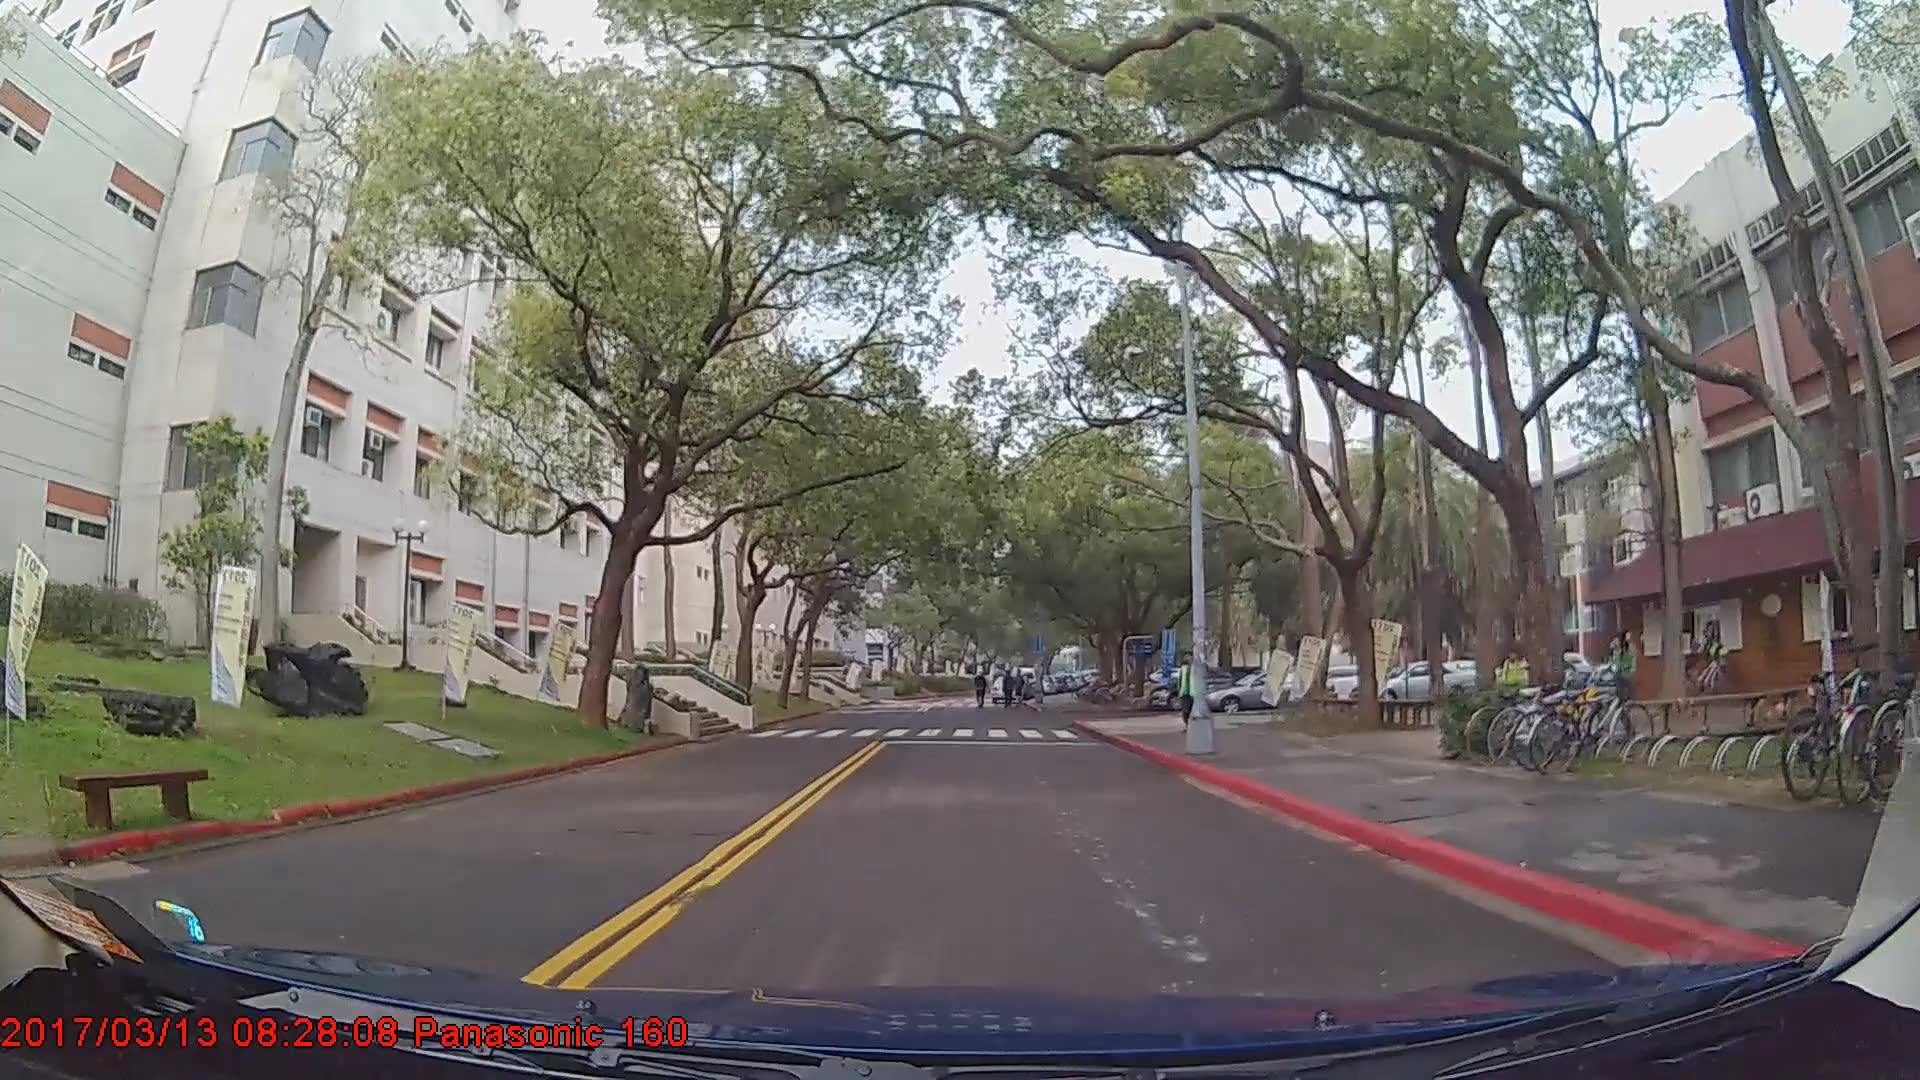pedestrian: (1503, 647, 1527, 715)
vehicle: (1348, 660, 1476, 705), (1204, 670, 1334, 715)
